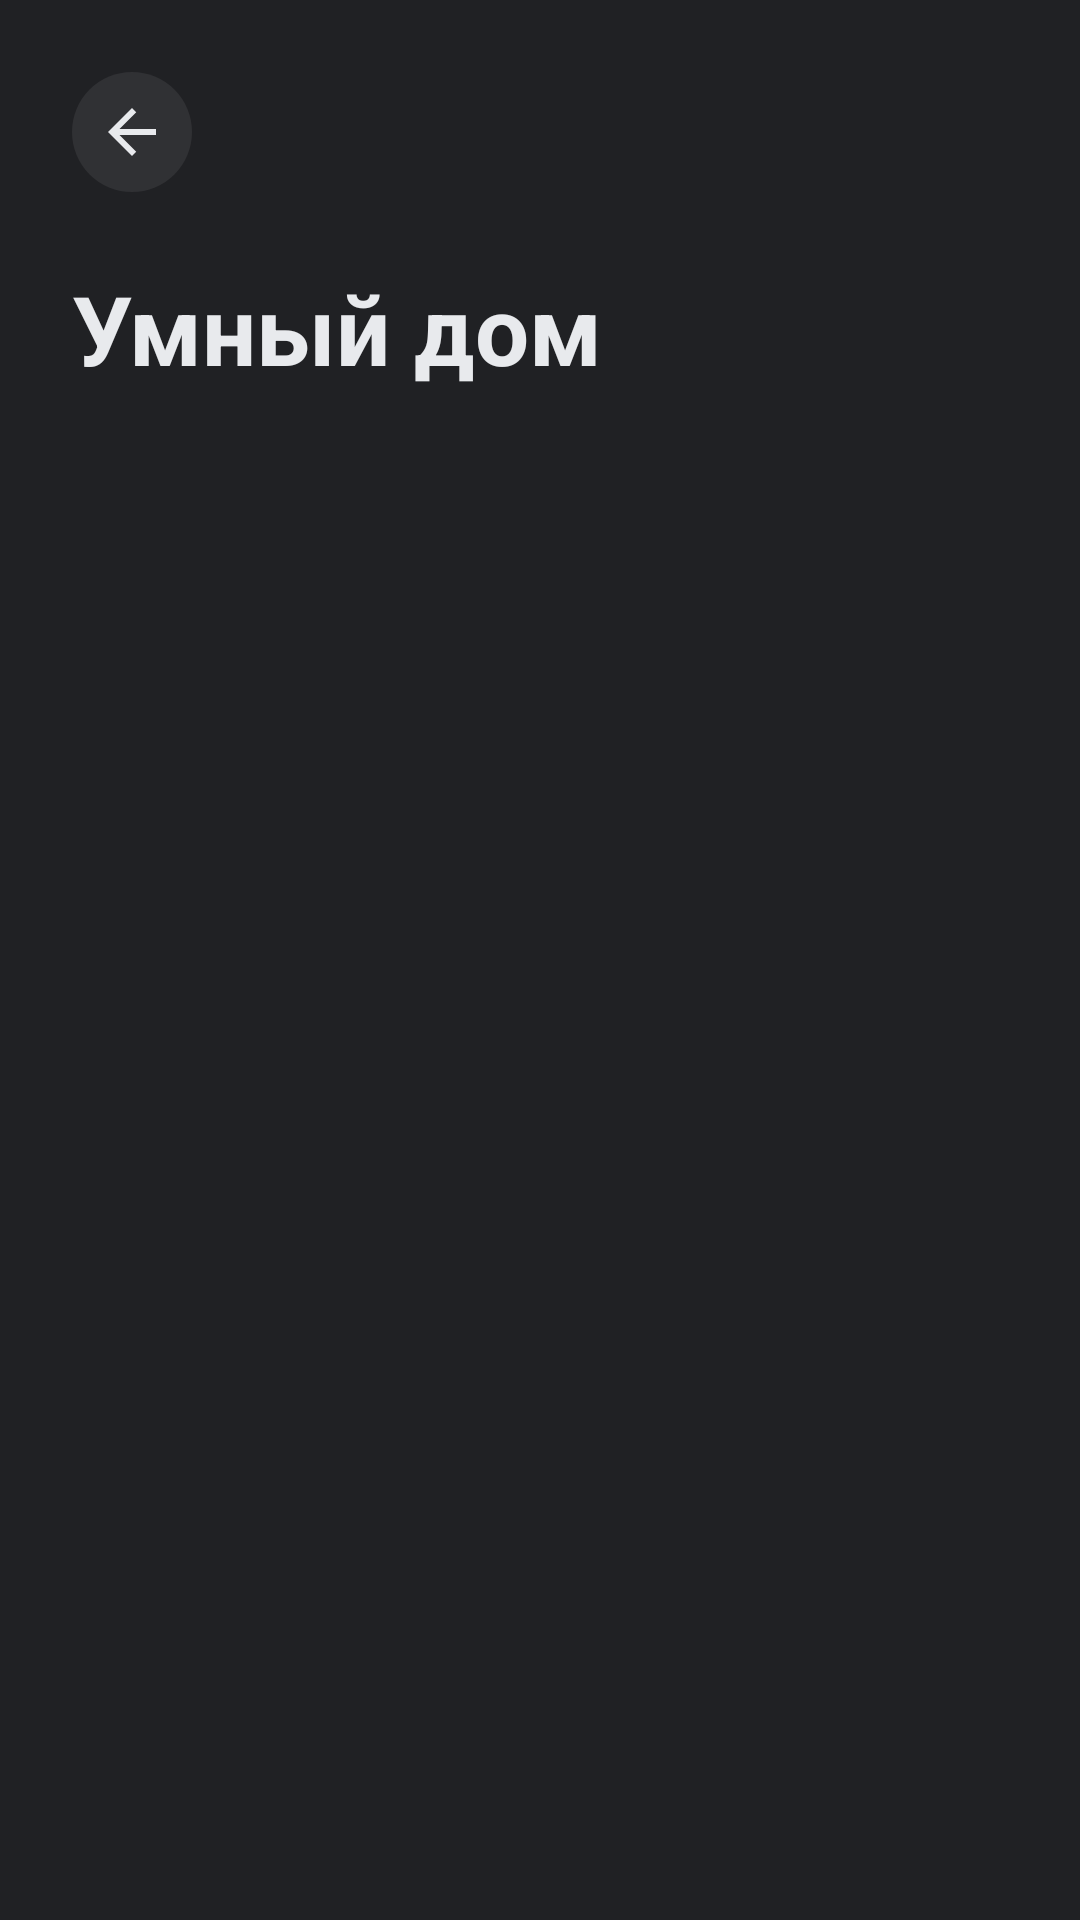

Icon bounding boxes for this 1080x1920 phone screenshot, format (x1, y1, x2, y2):
arrow back: (72, 72, 192, 192)
